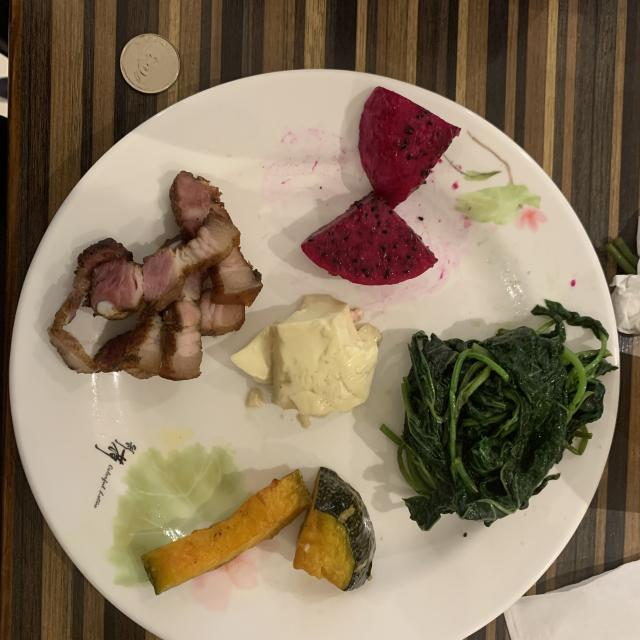coin: (120, 34, 180, 94)
grilled pork: (49, 171, 262, 380)
pumpkin: (141, 468, 376, 594)
sweet potato leaves: (381, 300, 616, 530)
